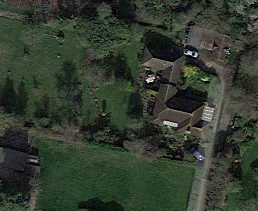tree: (122, 129, 163, 164), (88, 58, 121, 88)
